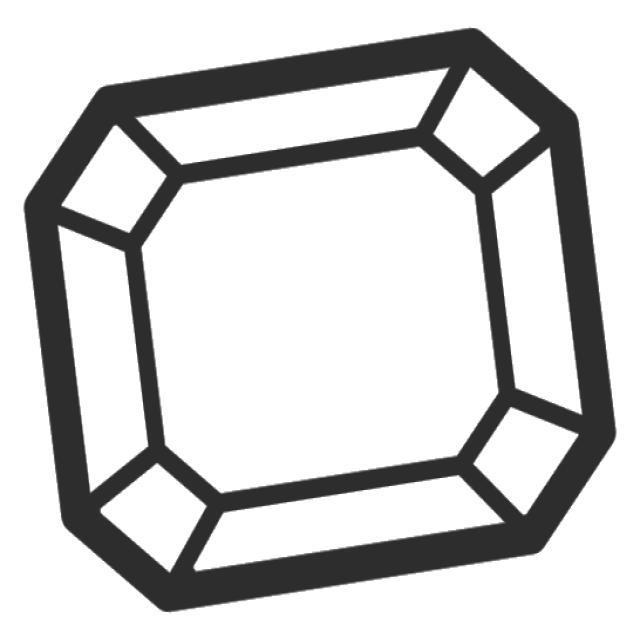emerald: (16, 19, 627, 623)
